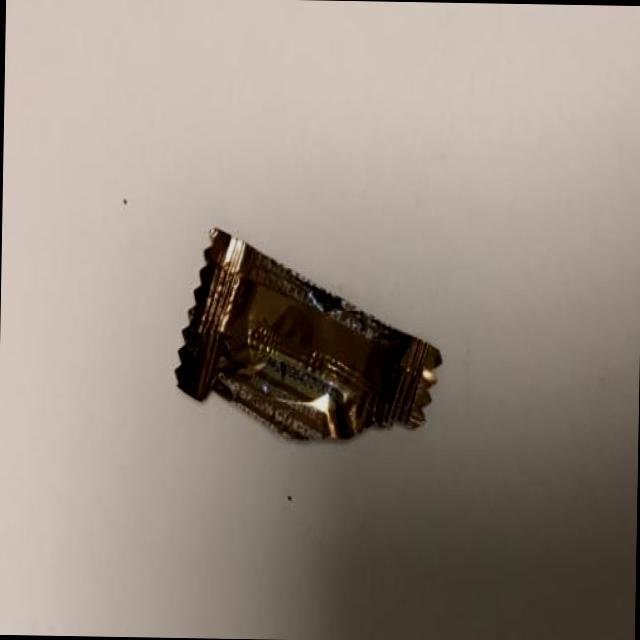giay_goi: (175, 229, 442, 440)
